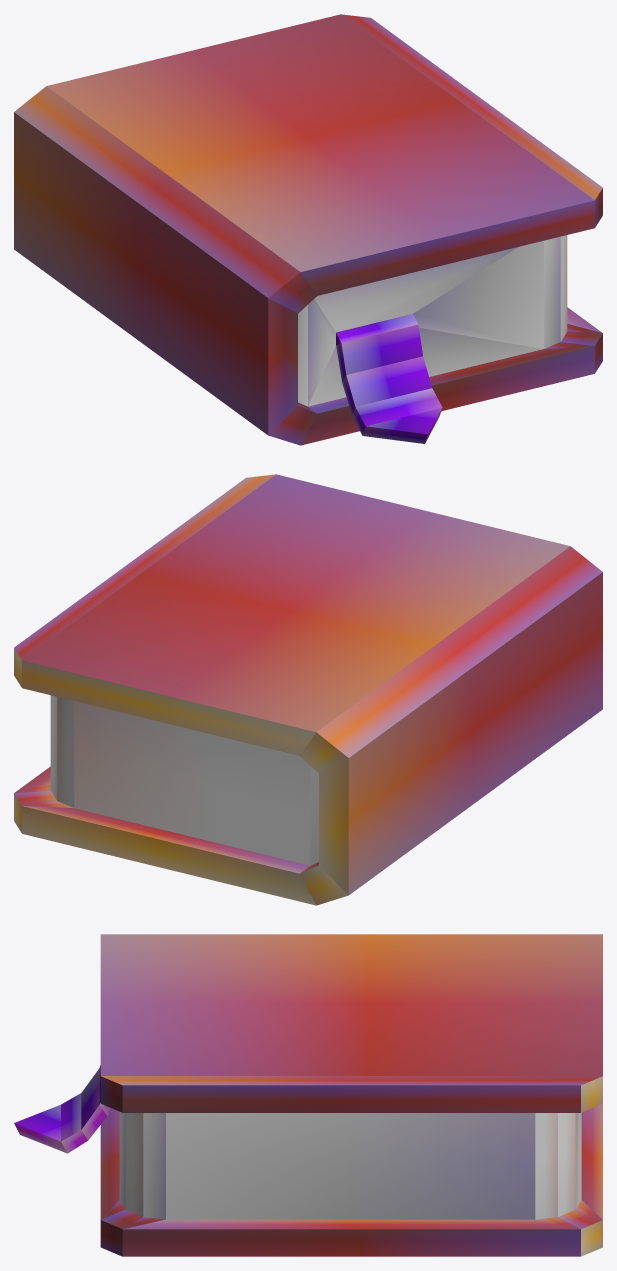
Rendered from book02.fbx.
3 views of the same model, one above another, from view 1: azimuth 30°, elevation 25°; view 2: azimuth 150°, elevation 25°; view 3: azimuth 270°, elevation 25° (orthographic).
Parts seen in each view (by area): view 1: book02; view 2: book02; view 3: book02.
Boxes of the visible parts, x1,y1,x2,y2 form: book02: [14, 14, 602, 445]; book02: [14, 474, 602, 905]; book02: [14, 934, 602, 1256].
Bounding box in the file's own units: 70.16 × 33.61 × 105.
